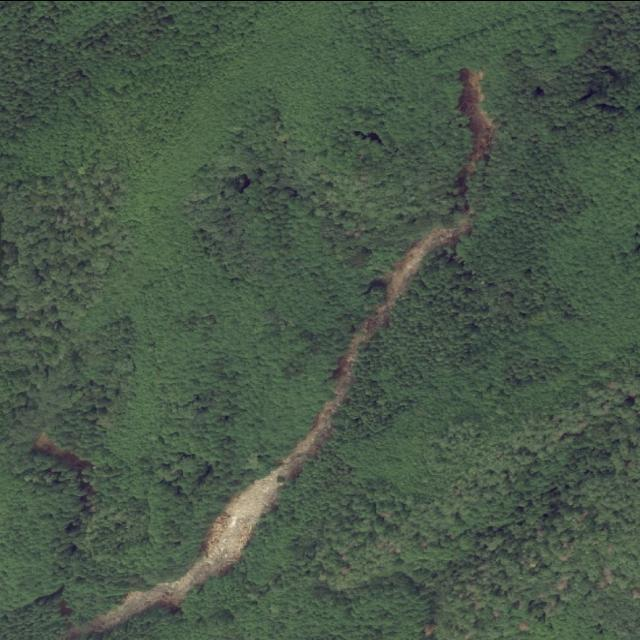landslide: (59, 199, 472, 639), (457, 66, 497, 195)
